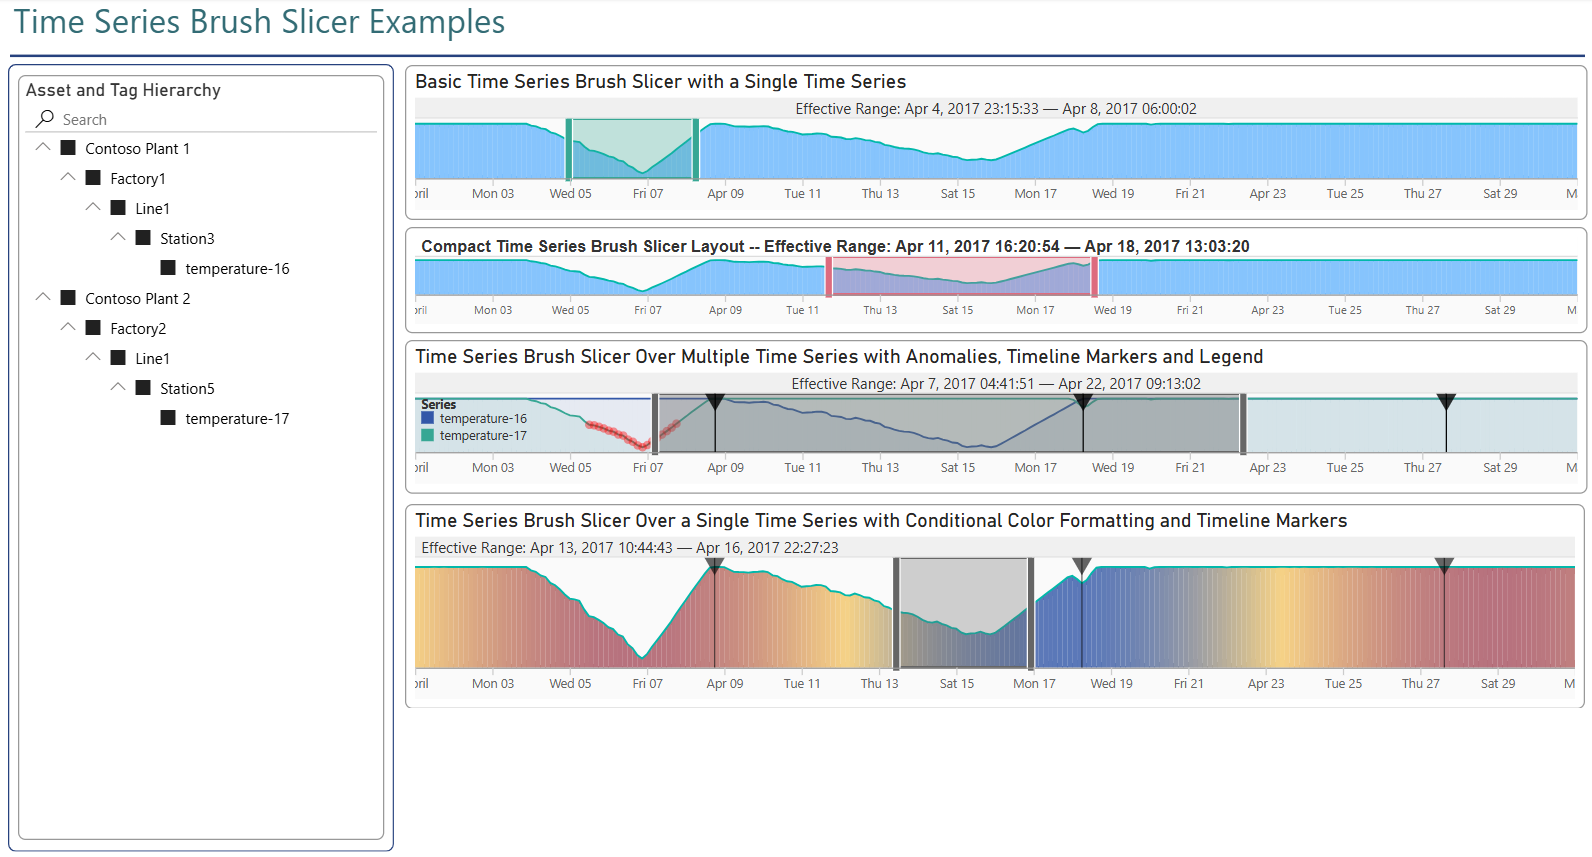

What the dashboard file says about the page in this screenshot:
{"tool":"powerbi","page":{"name":"Time Series Brush Slicer","canvas":[1280,720],"ordinal":0},"visuals":[{"type":"shape","box":[11.3,80.4,308.7,630.1],"z":0},{"type":"shape","box":[12.5,67.2,1260,12.5],"z":1000},{"type":"textbox","box":[10.7,20.6,1260.9,46.6],"z":2000},{"type":"slicer","title":"Asset and Tag Hierarchy","fields":{"Values":["Tag Metadata.Plant","Tag Metadata.Factory","Tag Metadata.Line","Tag Metadata.Station","Tag Metadata.TagName"]},"box":[18.8,88.7,292.8,611.6],"z":3000},{"type":"TimeSeriesBrushSlicerEFF0BAA64FAF4DC989E3AB4DE7610647","title":"Time Series Brush Slicer Over Multiple Time Series with Anomalies, Timeline Markers and Legend","fields":{"timestamp":["Time Brush.timestamp"],"values":["Sum(Time Brush.value)"],"timelineMarkers":["Min(Time Brush 1.timeline_marker)"],"anomalies":["Max(Time Brush 1.anomaly)"],"series":["Tag Metadata.TagName"]},"box":[328.7,300.9,945.7,122.7],"z":5000},{"type":"TimeSeriesBrushSlicerEFF0BAA64FAF4DC989E3AB4DE7610647","title":"Time Series Brush Slicer Over a Single Time Series with Conditional Color Formatting and Timeline Markers","fields":{"timestamp":["Time Brush 1.timestamp"],"values":["Sum(Time Brush 1.value)"],"timelineMarkers":["Min(Time Brush 1.timeline_marker)"]},"box":[328.7,431.6,943.9,163.9],"z":6000},{"type":"textbox","box":[326.9,595.5,944.8,114.6],"z":7000},{"type":"TimeSeriesBrushSlicerEFF0BAA64FAF4DC989E3AB4DE7610647","title":"Basic Time Series Brush Slicer with a Single Time Series","fields":{"timestamp":["Time Brush.timestamp"],"values":["Sum(Time Brush.value)"]},"box":[328.7,80.6,945.7,123.6],"z":7001},{"type":"TimeSeriesBrushSlicerEFF0BAA64FAF4DC989E3AB4DE7610647","title":"Basic Time Brushing with a Singe Time Series","fields":{"timestamp":["Time Brush.timestamp"],"values":["Sum(Time Brush.value)"]},"box":[328.7,210.4,945.7,85.1],"z":7002}]}

Visuals, with their boxes in screenshot pixels (x1, y1, x2, y2):
shape: bbox=(2, 68, 392, 856)
shape: bbox=(3, 52, 1591, 68)
textbox: bbox=(1, 0, 1591, 52)
"Asset and Tag Hierarchy" slicer: bbox=(11, 79, 381, 852)
"Time Series Brush Slicer Over Multiple Time Series with Anomalies, Timeline Markers and Legend" TimeSeriesBrushSlicerEFF0BAA64FAF4DC989E3AB4DE7610647: bbox=(403, 347, 1591, 502)
"Time Series Brush Slicer Over a Single Time Series with Conditional Color Formatting and Timeline Markers" TimeSeriesBrushSlicerEFF0BAA64FAF4DC989E3AB4DE7610647: bbox=(403, 512, 1591, 719)
textbox: bbox=(401, 719, 1591, 856)
"Basic Time Series Brush Slicer with a Single Time Series" TimeSeriesBrushSlicerEFF0BAA64FAF4DC989E3AB4DE7610647: bbox=(403, 69, 1591, 225)
"Basic Time Brushing with a Singe Time Series" TimeSeriesBrushSlicerEFF0BAA64FAF4DC989E3AB4DE7610647: bbox=(403, 233, 1591, 340)
